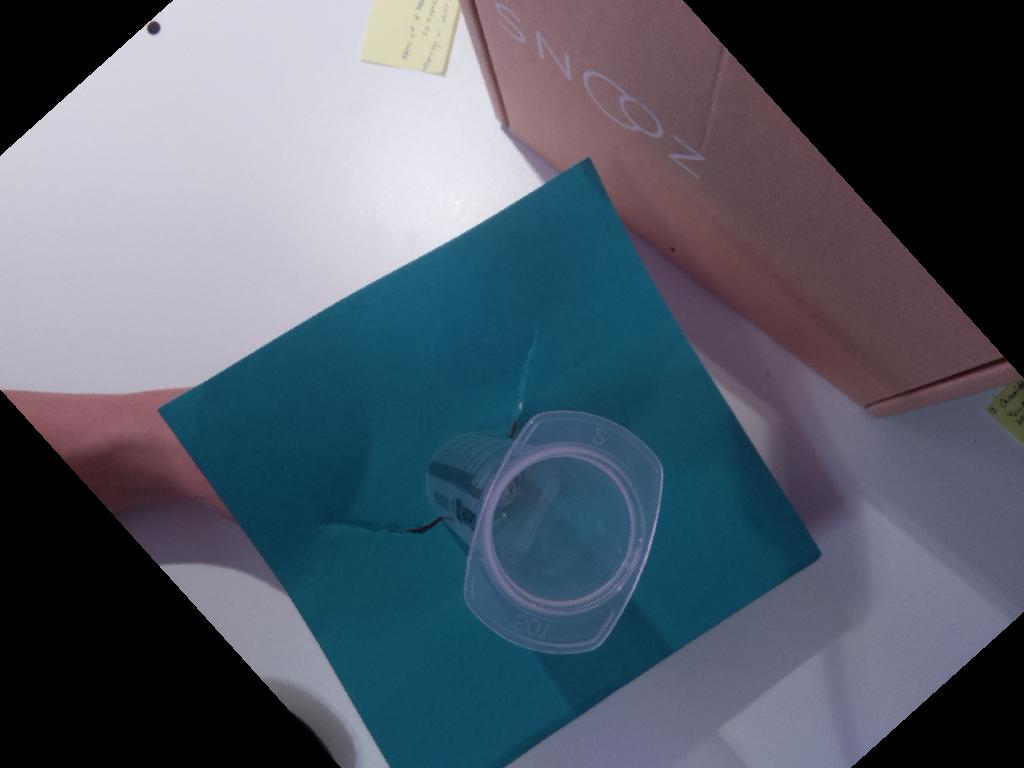clean: (461, 408, 665, 651)
